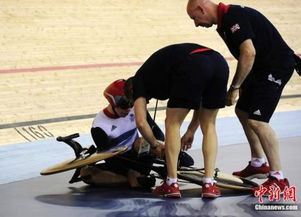fall: (60, 72, 179, 192)
